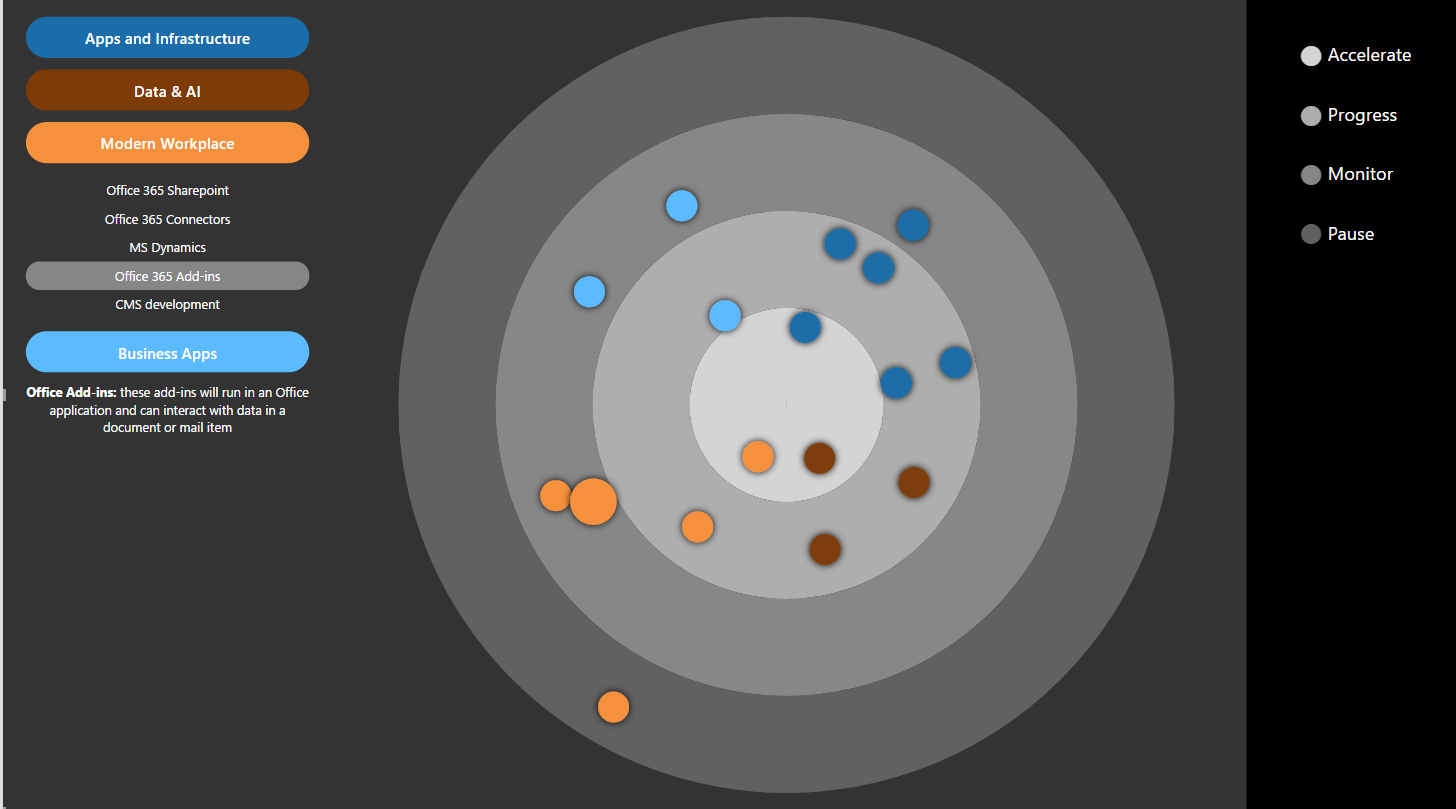

The dashboard page shown, as its layout file describes it:
{"tool":"powerbi","page":{"name":"Page 1","canvas":[1280,720],"ordinal":0},"visuals":[{"type":"radarCFE3A42CE23743BD8E313C30A2483BCA","fields":{"description":["points.description"],"name":["points.name"],"ring":["points.ring"],"sector":["points.sector"]},"box":[0.9,0.9,1278.2,718.3],"z":1}]}

Visuals, with their boxes in screenshot pixels (x1, y1, x2, y2), scaled from the page's 1280x720 canvas onto the 1456x809 screenshot:
radarCFE3A42CE23743BD8E313C30A2483BCA - points.description x points.name: box=[1, 1, 1455, 808]
